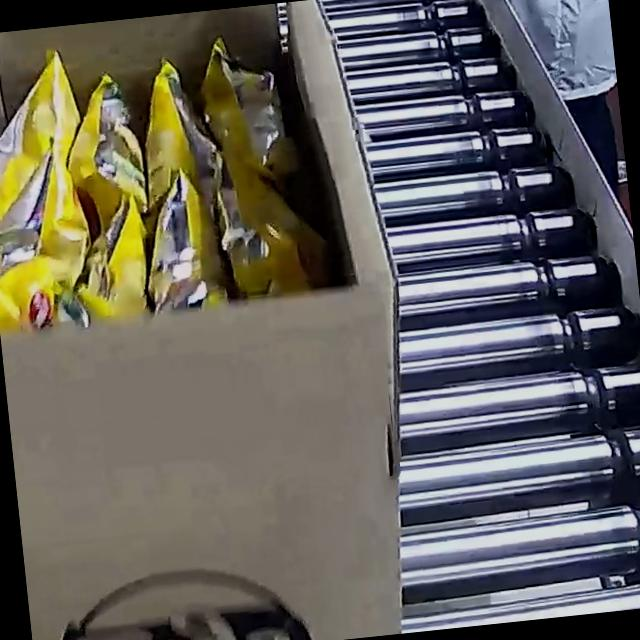salted: (0, 1, 320, 346)
